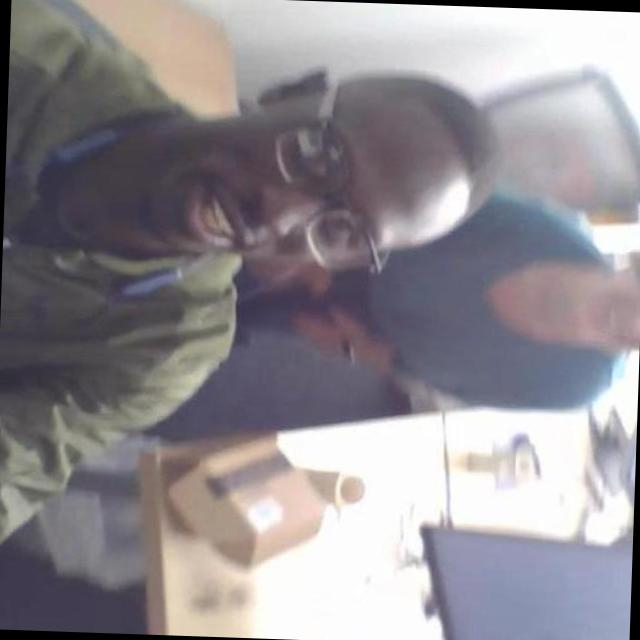bareface: (154, 48, 488, 268)
